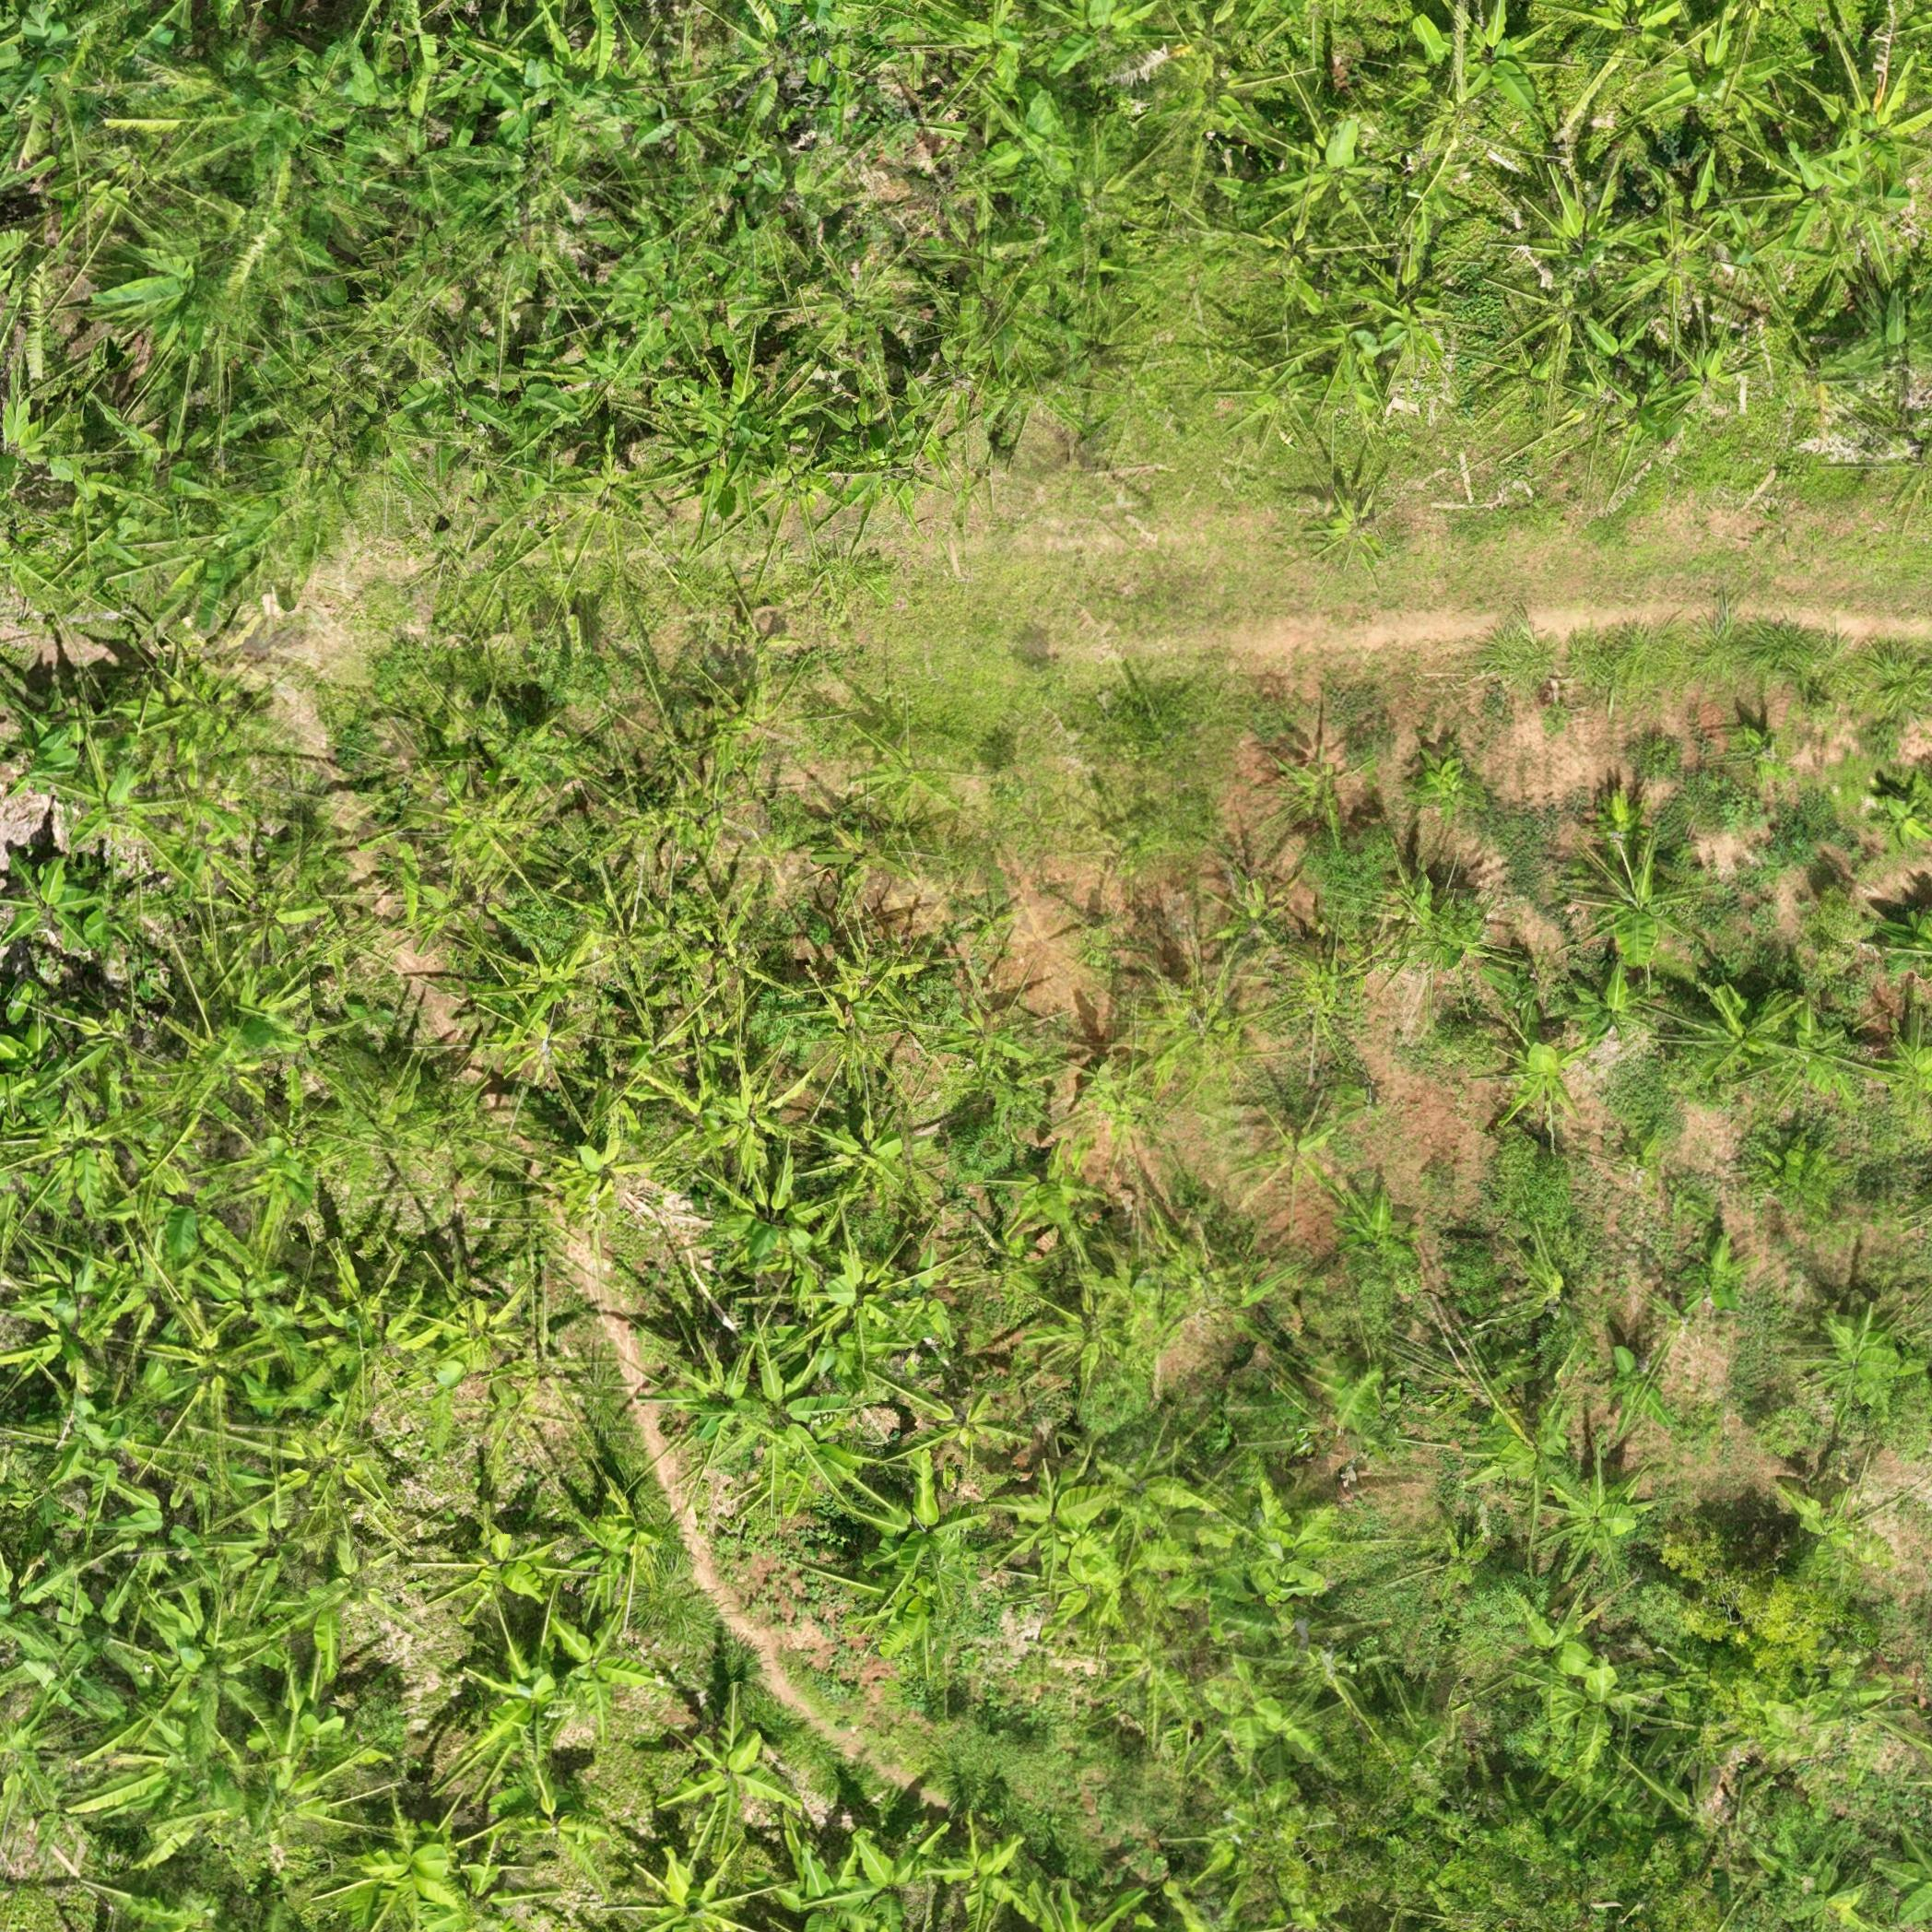Banana: (391, 725, 594, 913), (177, 1277, 324, 1453), (386, 21, 571, 154), (1730, 957, 1890, 1104), (681, 1341, 849, 1479), (464, 1629, 607, 1790), (108, 226, 253, 380), (21, 1113, 184, 1244), (663, 1695, 801, 1836), (122, 1008, 274, 1136), (134, 1585, 272, 1725), (605, 242, 752, 372), (1417, 7, 1555, 136), (658, 387, 800, 513), (11, 842, 138, 980), (1251, 106, 1380, 235), (1522, 182, 1647, 315), (784, 407, 941, 510), (702, 1171, 847, 1281), (228, 64, 364, 180), (1647, 984, 1773, 1109), (50, 761, 202, 863), (386, 1288, 527, 1398), (603, 761, 724, 886), (690, 1074, 817, 1192), (1799, 67, 1927, 186), (336, 1812, 467, 1925), (1012, 1474, 1136, 1591), (1532, 1454, 1656, 1571), (1534, 336, 1658, 453), (872, 1479, 987, 1605), (1674, 50, 1796, 166), (1645, 25, 1776, 131), (931, 984, 1044, 1106), (918, 280, 1049, 384), (1194, 1493, 1313, 1608), (28, 1288, 131, 1421), (607, 1836, 752, 1930), (1555, 1660, 1661, 1778), (819, 1836, 950, 1930), (1629, 218, 1743, 324), (1224, 341, 1339, 446), (127, 1746, 246, 1847), (1502, 1591, 1610, 1700), (1364, 140, 1476, 246), (1100, 1621, 1207, 1730), (1592, 856, 1691, 971), (973, 111, 1086, 209), (1757, 150, 1856, 258), (1817, 1316, 1909, 1431), (1357, 267, 1456, 373), (85, 30, 191, 124), (1497, 1031, 1591, 1136), (916, 12, 1033, 96), (1661, 345, 1771, 433), (778, 971, 886, 1058), (1237, 1111, 1341, 1200), (1005, 1159, 1097, 1254), (474, 993, 587, 1069), (1299, 295, 1378, 393), (1162, 984, 1244, 1077), (1320, 492, 1403, 575), (19, 96, 99, 180), (7, 16, 69, 106)
